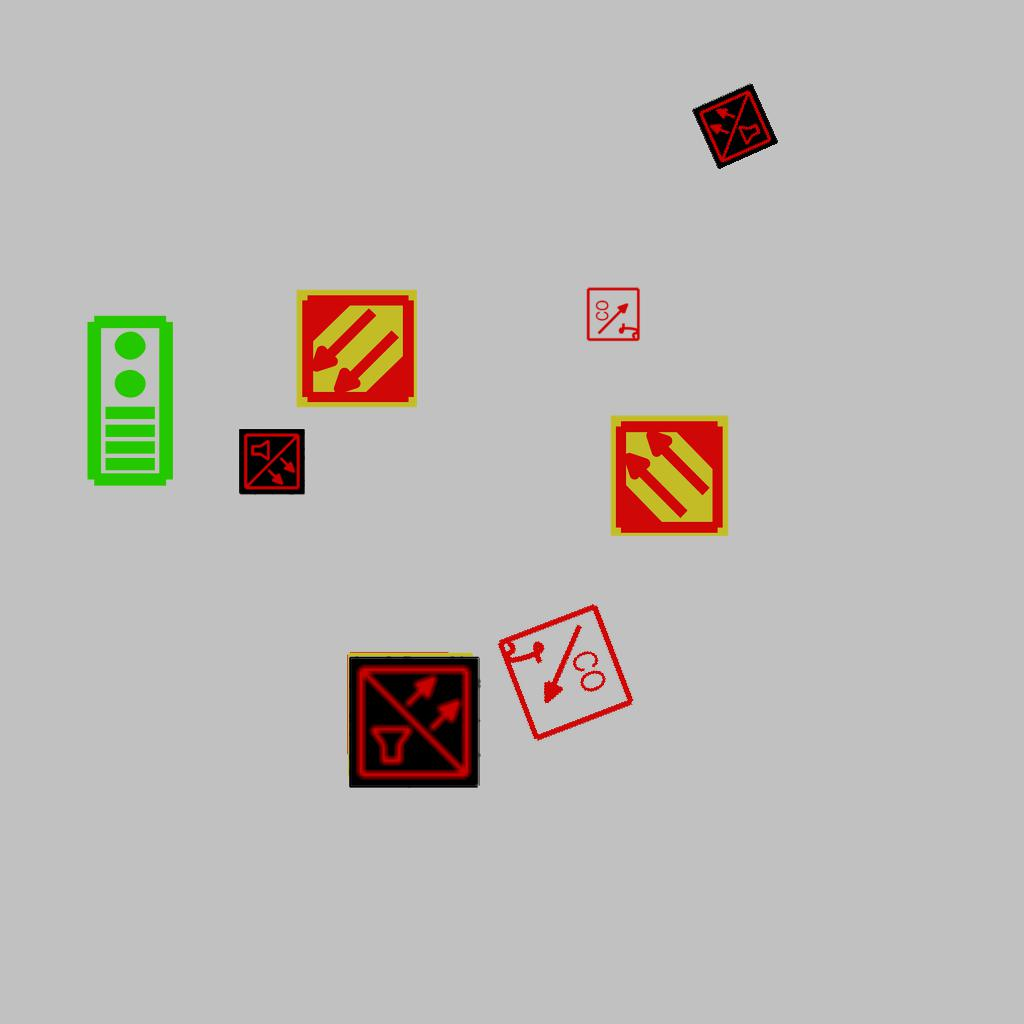ASR_Ansaugrauchmelder: (294, 286, 419, 411), (607, 413, 732, 538)
Gegensprechanlage_mit_Video: (81, 312, 176, 488)
OKW_Multisensormelder_(Kombination_optischer_Rauch-Kahlenmonoxid_Waerme-Melder): (344, 650, 476, 782), (349, 656, 481, 788), (691, 82, 779, 170), (239, 429, 305, 495)
ROA_Rauchmelder_optisch_mit_Signalgeber_(Sockelsirene): (491, 600, 638, 747), (586, 286, 642, 342)
